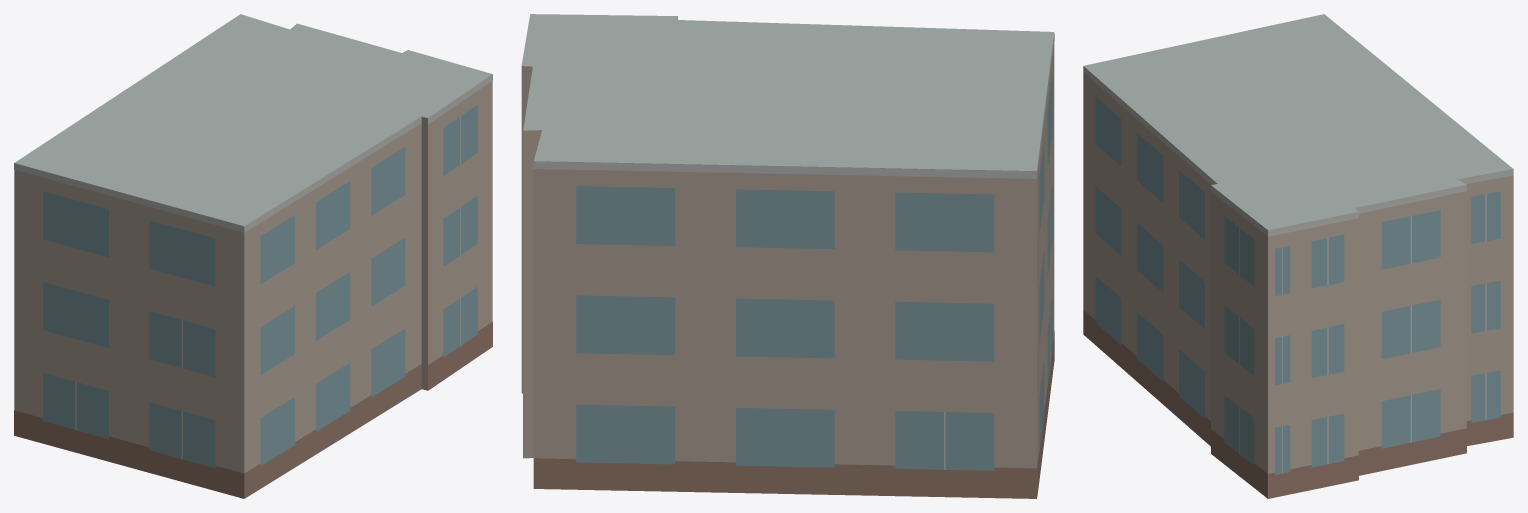
File: survey-upis-32511748.glb
The picture shows the model from 3 angles, left to right: view 1: azimuth 30°, elevation 25°; view 2: azimuth 150°, elevation 25°; view 3: azimuth 270°, elevation 25°; orthographic projection. The views are drawn at different scales.
Parts seen in each view (by area): view 1: survey-upis-32511748.tmp; view 2: survey-upis-32511748.tmp; view 3: survey-upis-32511748.tmp.
Part boxes in pixels (<box>): survey-upis-32511748.tmp: <box>14,14,492,498</box>; survey-upis-32511748.tmp: <box>521,14,1054,498</box>; survey-upis-32511748.tmp: <box>1083,14,1513,498</box>.
Bounding box in the file's own units: 17.63 × 10.2 × 14.82.
